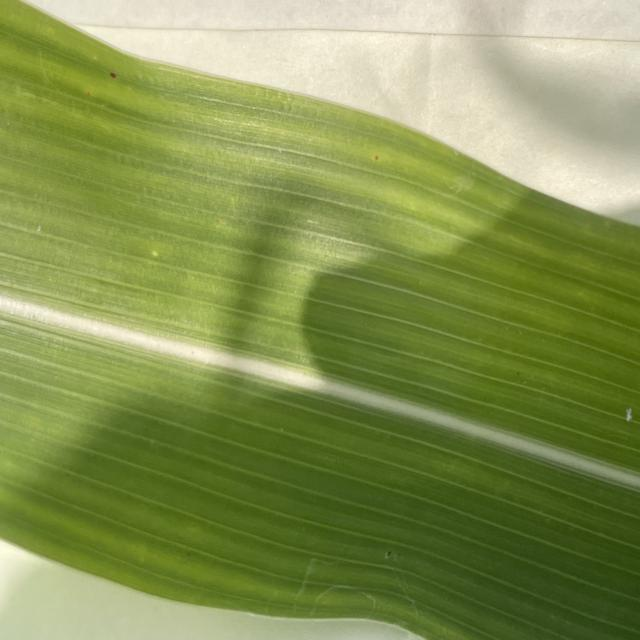millet_healthy: (0, 2, 640, 631)
